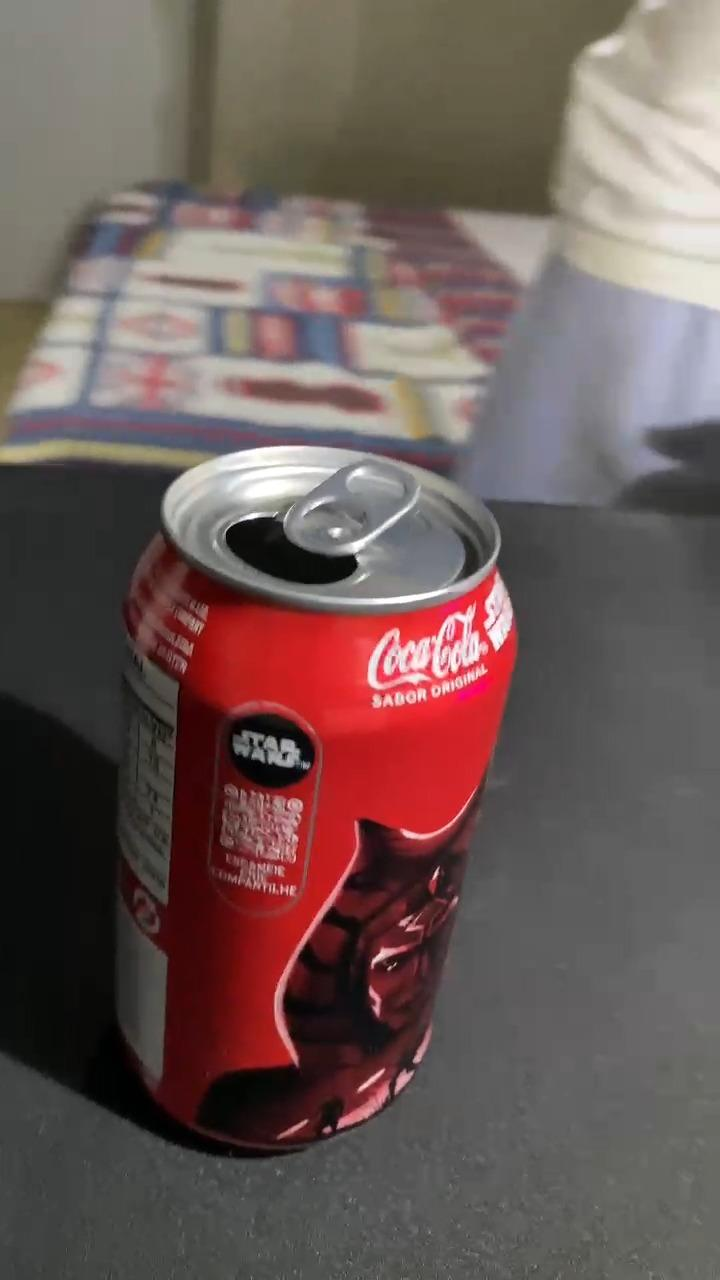coke: (119, 447, 519, 1147)
